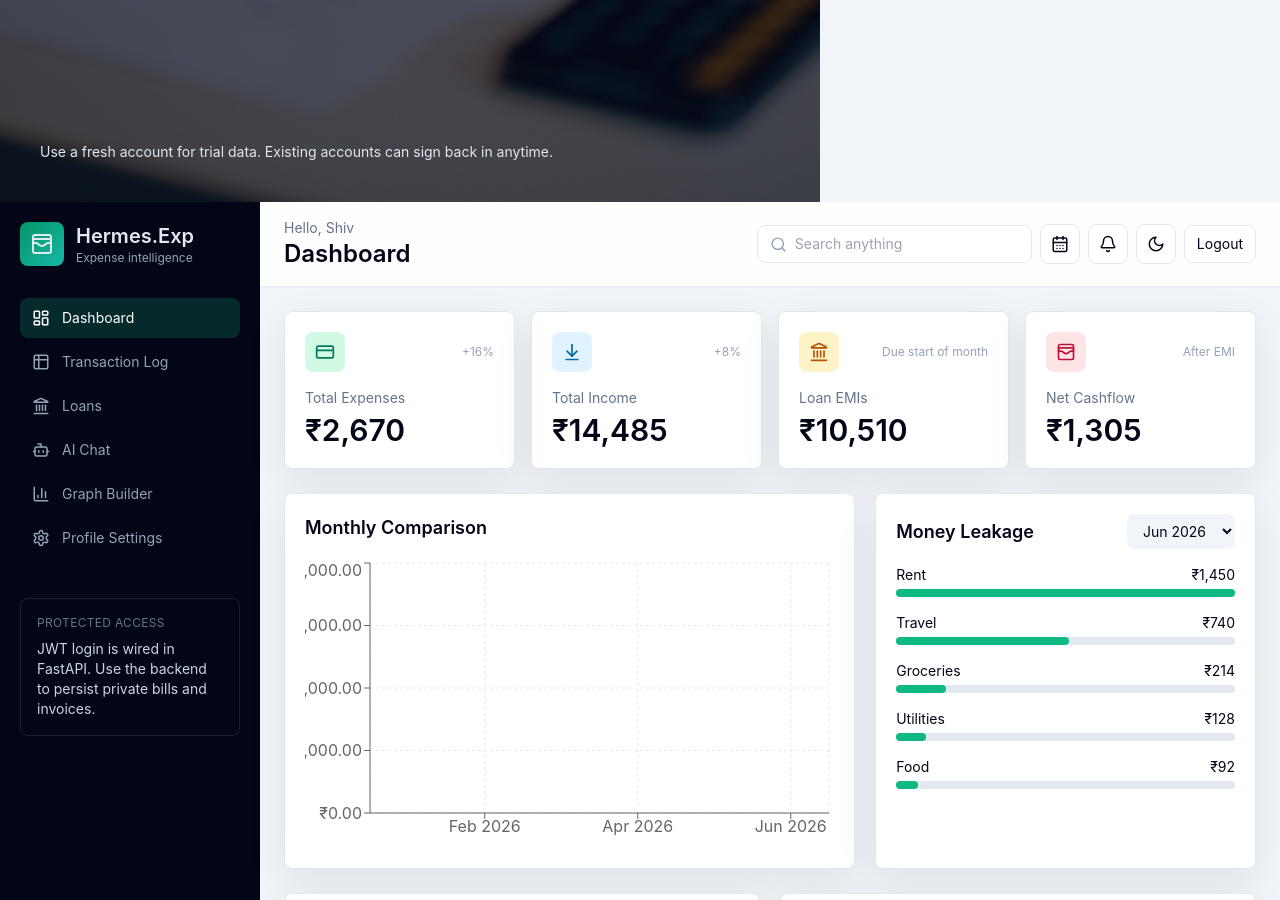
Scenario: Transaction Log › sends text questions to the AI chat endpoint
(page scrolled)
Click the button "AI Chat" at coordinates (130, 450), box [20,430,240,470]
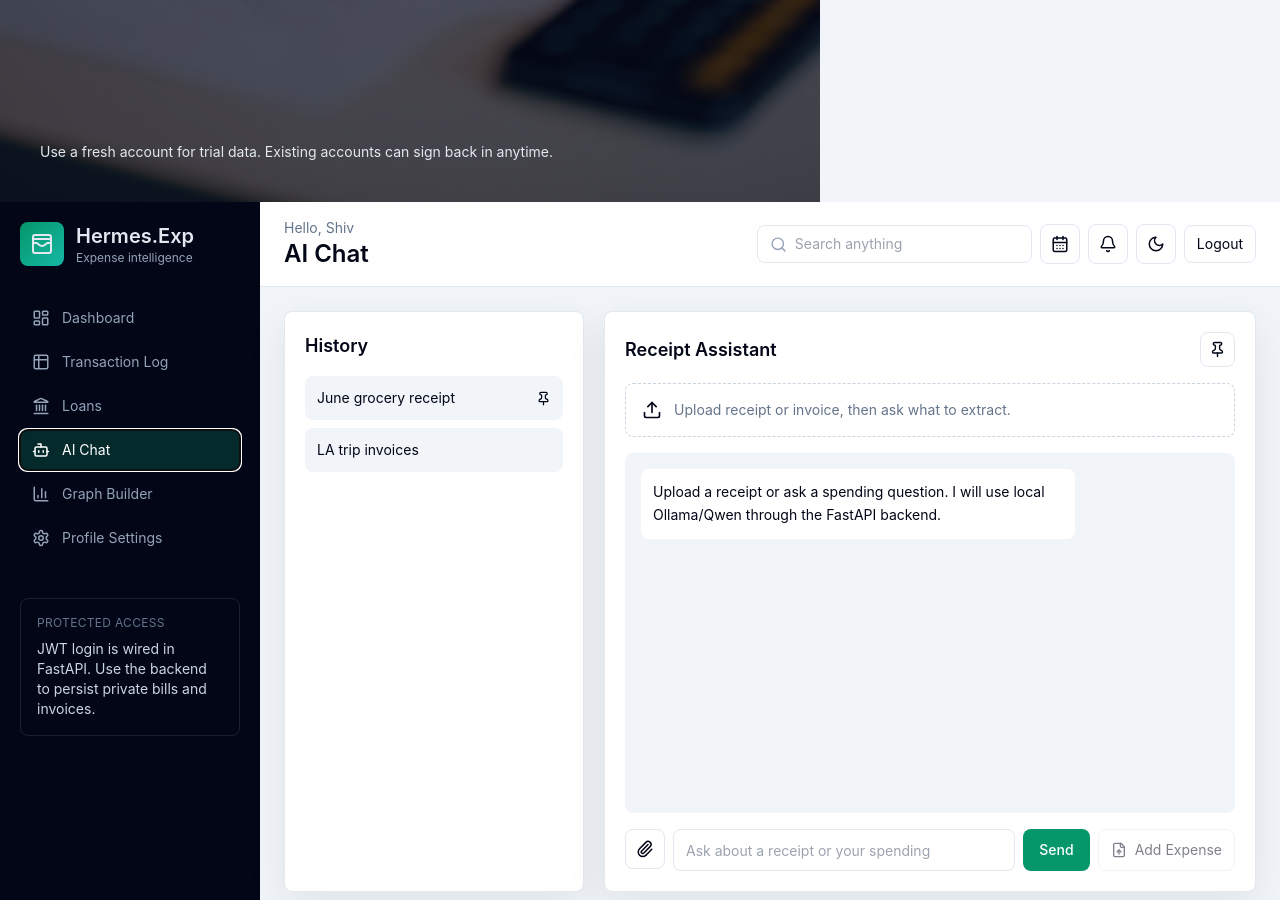
Type "Where am I overspending?" into the field with placeholder "Ask about a receipt or your spending" at coordinates (844, 850), box [673,829,1015,871]
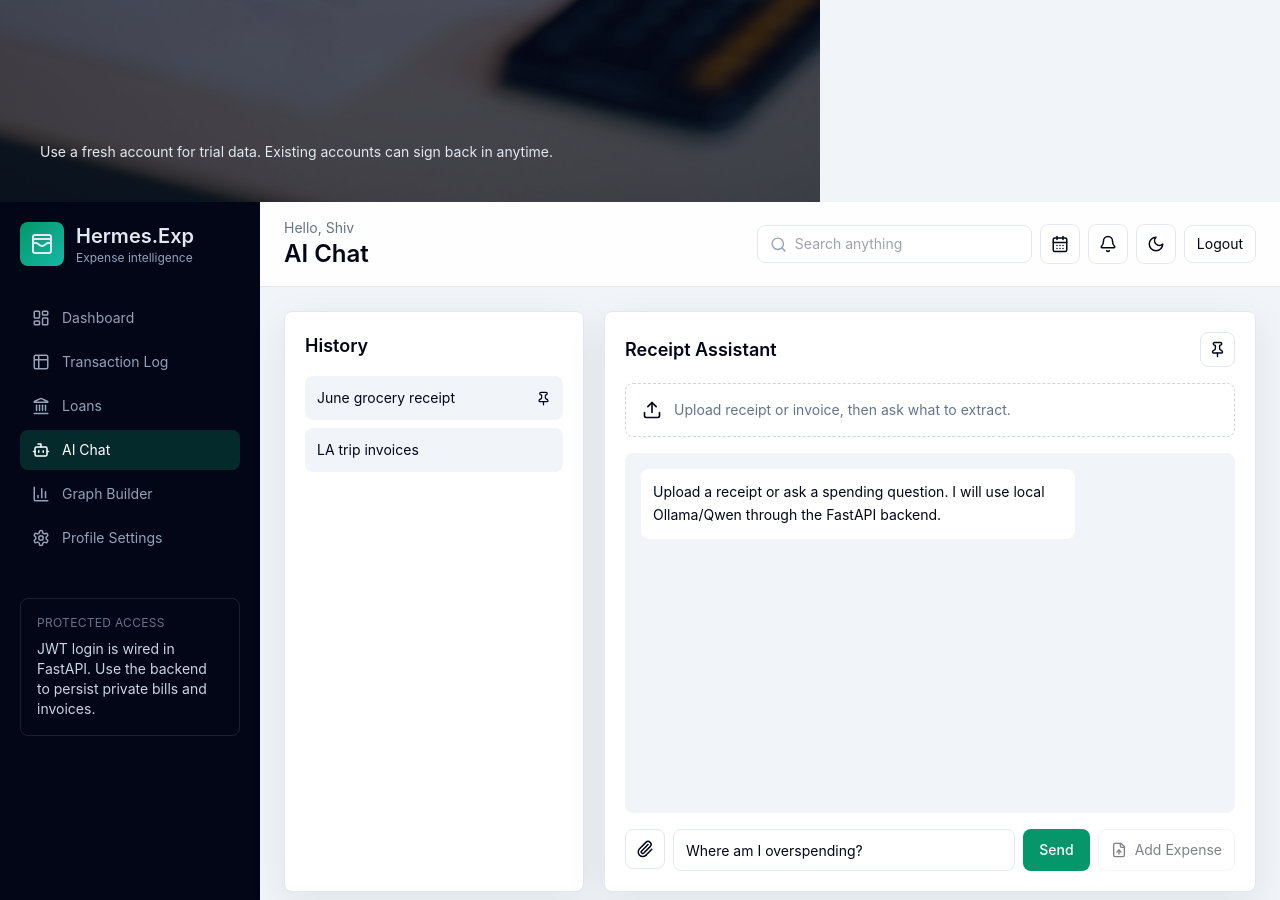
Click the button "Send" at coordinates (1056, 850), box [1023,829,1090,871]
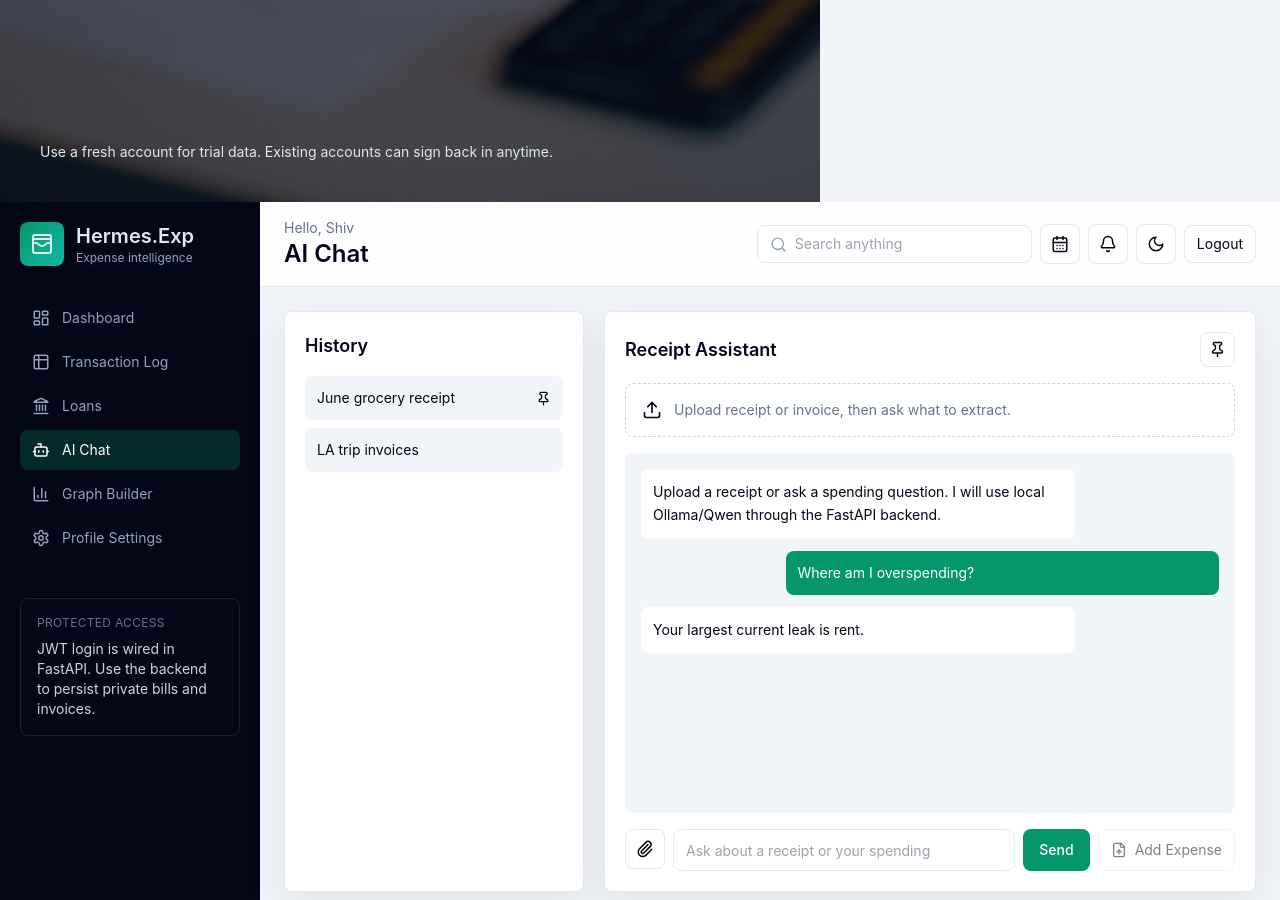
Expected: the text "Your largest current leak is rent." is shown, [653,620,864,638]
